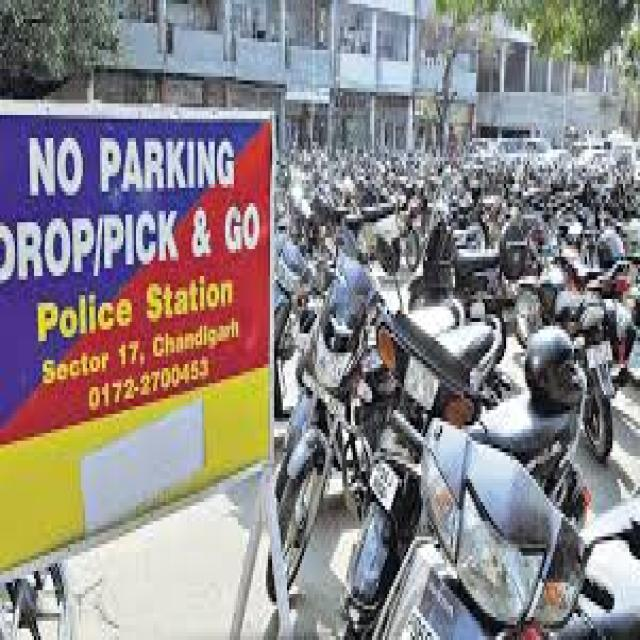No Parking: (260, 108, 621, 640)
